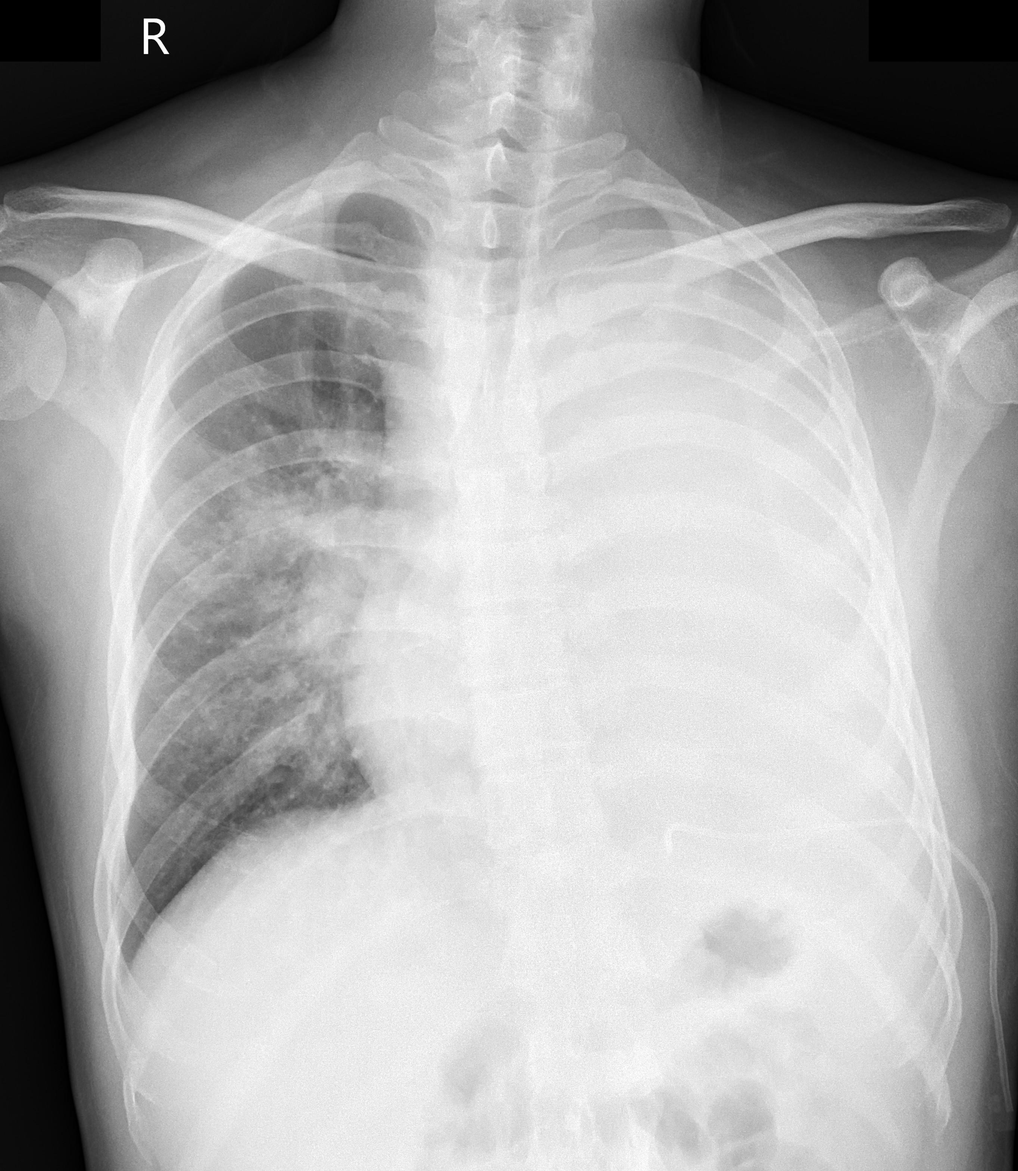Pulmonary fibrosis: (140, 448, 385, 779)
